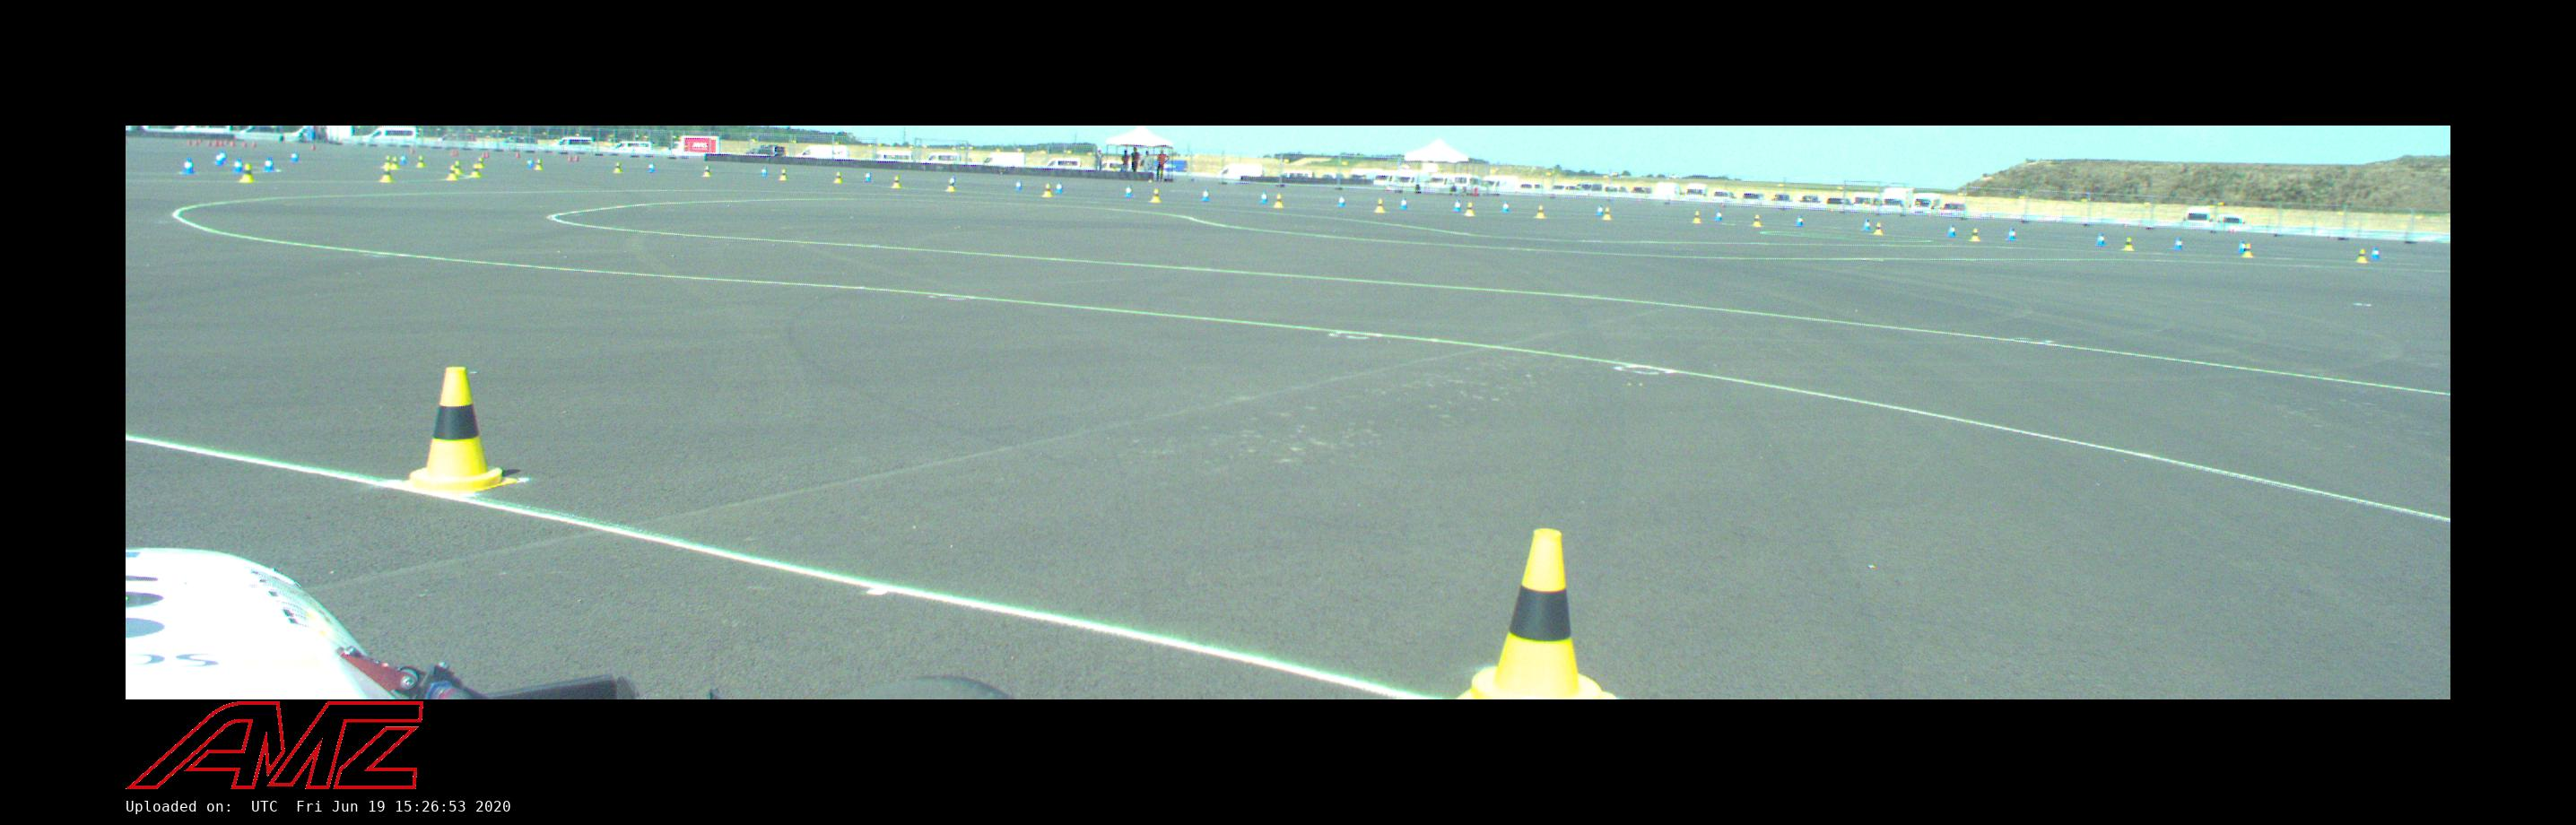blue_cone: (181, 158, 195, 173), (264, 156, 274, 171), (233, 158, 243, 173), (2096, 233, 2105, 247), (2008, 228, 2016, 240), (2238, 242, 2246, 251), (1339, 196, 1345, 207), (1948, 225, 1955, 237), (1865, 220, 1871, 230), (2372, 248, 2379, 258), (2175, 238, 2182, 248), (1454, 200, 1460, 210), (1056, 182, 1063, 192), (1203, 191, 1209, 200), (1401, 199, 1408, 209), (1015, 181, 1022, 191), (1125, 186, 1132, 196), (1502, 202, 1508, 212), (1597, 205, 1603, 215), (864, 173, 871, 181), (1715, 212, 1722, 220), (1797, 217, 1802, 227), (1262, 192, 1267, 202), (526, 159, 532, 166), (649, 163, 654, 171), (762, 168, 767, 176)
yellow_cone: (1459, 529, 1613, 698), (399, 366, 516, 498), (240, 164, 256, 182), (380, 166, 393, 182), (2242, 243, 2252, 256), (1970, 228, 1980, 240), (1152, 189, 1160, 202), (449, 166, 457, 179), (2124, 238, 2132, 250), (2357, 250, 2366, 261), (471, 164, 480, 176), (1377, 199, 1383, 212), (1275, 194, 1281, 207), (1043, 184, 1051, 194), (1536, 207, 1544, 217), (1755, 215, 1761, 225), (835, 173, 841, 182), (894, 176, 900, 186), (780, 169, 787, 179), (1694, 212, 1700, 222), (417, 156, 424, 166), (948, 181, 955, 191), (536, 159, 542, 169), (1603, 209, 1610, 219), (703, 166, 710, 174), (1876, 224, 1881, 233), (1467, 204, 1472, 214), (616, 163, 621, 171)
